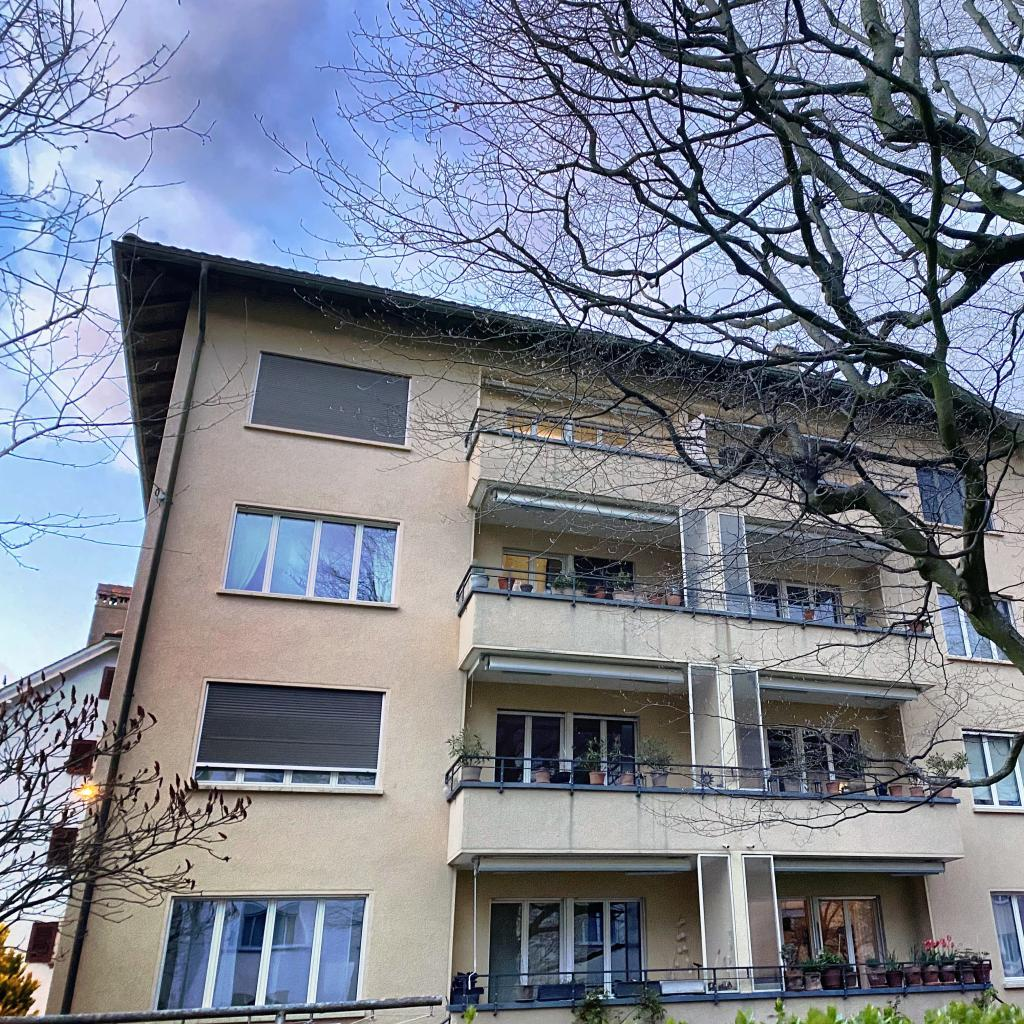balcony-fence: (464, 406, 911, 497), (455, 564, 935, 642), (445, 957, 994, 1019), (444, 753, 963, 808)
facade: (41, 231, 1024, 1024), (0, 581, 130, 1017)
fence: (0, 995, 452, 1024)
vegetation: (248, 0, 1024, 878), (0, 669, 255, 1017), (730, 985, 1024, 1024), (864, 933, 990, 972), (780, 941, 846, 971), (461, 1003, 478, 1024)
window: (155, 893, 370, 1012), (188, 679, 386, 787), (221, 502, 401, 605), (487, 898, 650, 1003), (248, 349, 414, 447), (697, 854, 785, 995), (494, 706, 642, 786), (777, 896, 889, 988), (688, 662, 768, 790), (679, 506, 752, 614), (500, 547, 637, 602), (764, 726, 865, 794), (938, 589, 1019, 662), (915, 462, 998, 531), (505, 406, 631, 451), (961, 727, 1024, 809), (751, 576, 844, 624), (987, 889, 1024, 983), (719, 444, 820, 478), (25, 922, 59, 963), (46, 828, 78, 866), (67, 740, 95, 774), (98, 667, 116, 702)
